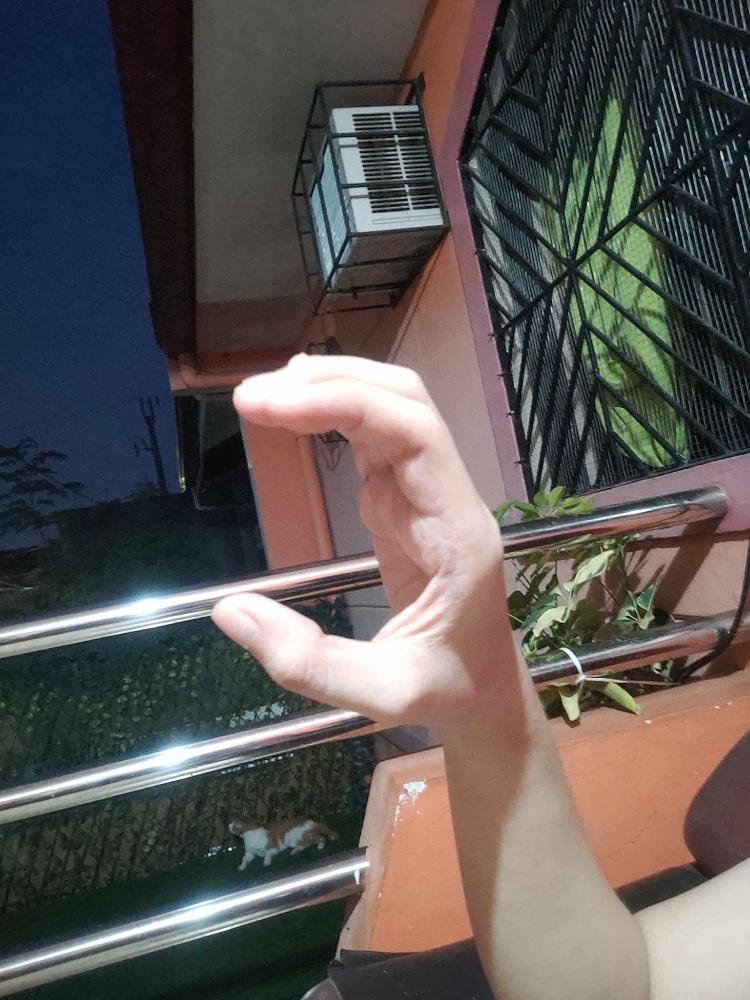c: (209, 351, 513, 726)
